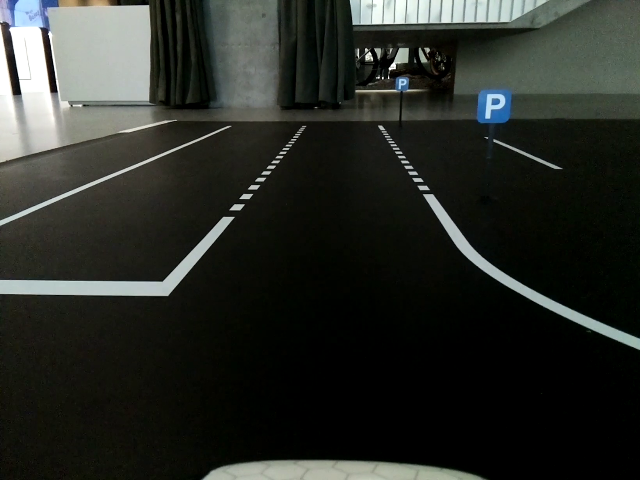park: (477, 90, 510, 123), (397, 77, 408, 92)
